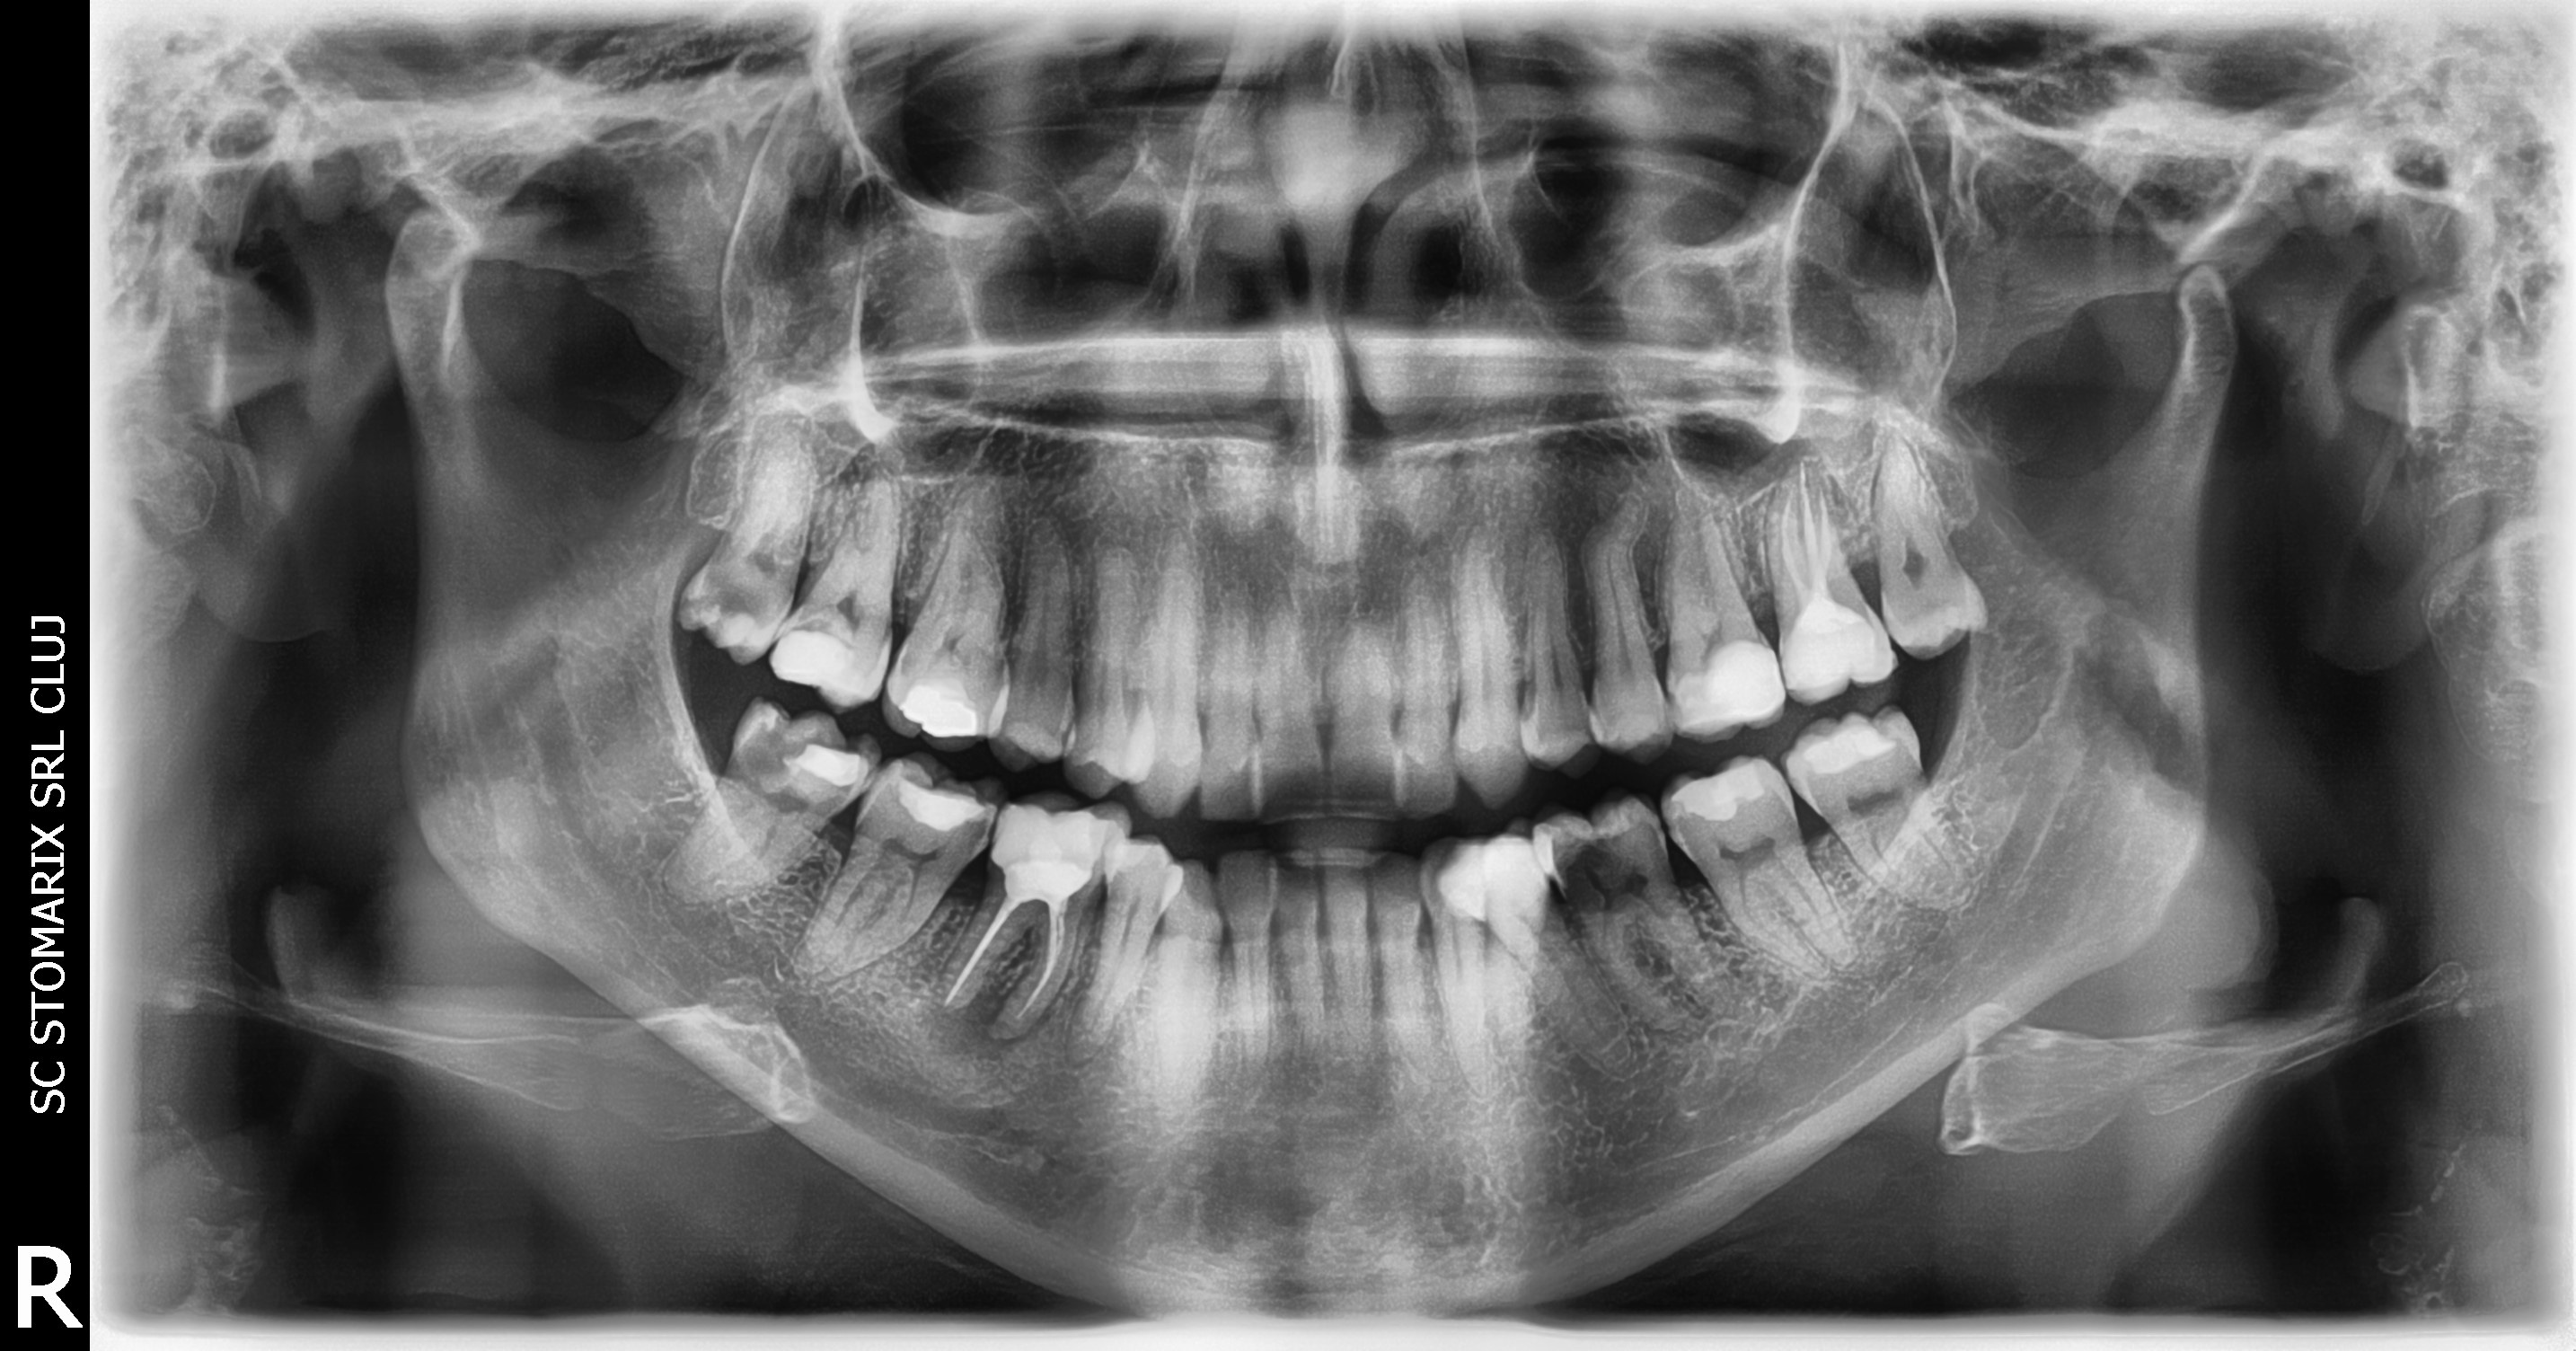API: (910, 976, 1073, 1089)
CAR: (738, 680, 855, 790), (668, 569, 789, 644), (779, 605, 867, 647), (1620, 808, 1680, 857)
END: (929, 898, 1099, 1039), (1762, 431, 1847, 605)
OBT: (1651, 637, 1794, 744), (1787, 687, 1927, 794), (1777, 595, 1895, 716), (976, 808, 1128, 898), (751, 618, 888, 707), (1646, 762, 1787, 833), (871, 775, 1000, 840), (881, 673, 1005, 739), (779, 743, 886, 801)
